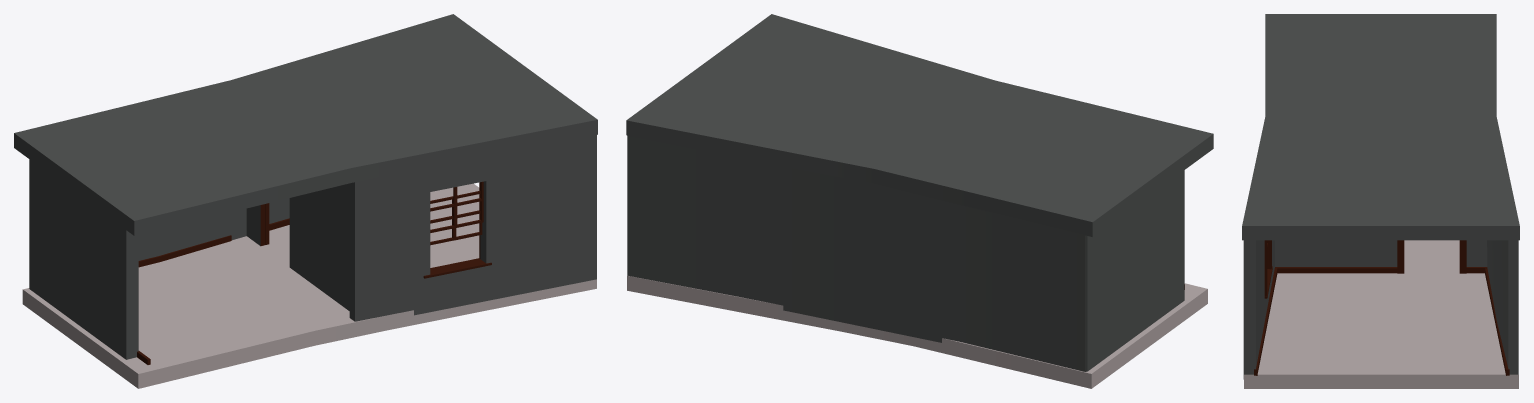
File: NanasHouse 1.1.fbx
3 renders of one model, left to right at view 1: azimuth 30°, elevation 25°; view 2: azimuth 150°, elevation 25°; view 3: azimuth 270°, elevation 25°, orthographic. The views are drawn at different scales.
Parts seen in each view (by area): view 1: Ceiling, Window_Wall, Floor, Kitchen_Wall, Threshold_Wall, Long_Wall, Mullions2, Mullions1, Kitchen_Baseboard1, Window_Sill; view 2: Ceiling, Long_Wall, Kitchen_Wall, Floor; view 3: Ceiling, Floor, Threshold_Wall, Long_Wall, Window_Wall, Baseboard3, Threshold_Casing, Baseboard2, Baseboard1, Window_Casing.
Boxes of the visible parts, left/top/right/bottom form: Ceiling: left=14, top=14, right=597, bottom=235; Window_Wall: left=349, top=135, right=596, bottom=321; Floor: left=22, top=183, right=596, bottom=388; Kitchen_Wall: left=29, top=159, right=138, bottom=359; Threshold_Wall: left=246, top=183, right=349, bottom=310; Long_Wall: left=138, top=198, right=289, bottom=260; Mullions2: left=430, top=191, right=482, bottom=245; Mullions1: left=430, top=181, right=483, bottom=232; Kitchen_Baseboard1: left=138, top=235, right=231, bottom=267; Window_Sill: left=423, top=258, right=491, bottom=278; Ceiling: left=626, top=14, right=1213, bottom=237; Long_Wall: left=627, top=135, right=1086, bottom=371; Kitchen_Wall: left=1086, top=170, right=1184, bottom=371; Floor: left=627, top=275, right=1207, bottom=388; Ceiling: left=1242, top=14, right=1519, bottom=240; Floor: left=1244, top=240, right=1518, bottom=388; Threshold_Wall: left=1275, top=240, right=1487, bottom=266; Long_Wall: left=1487, top=240, right=1518, bottom=374; Window_Wall: left=1243, top=240, right=1274, bottom=379; Baseboard3: left=1275, top=267, right=1397, bottom=273; Threshold_Casing: left=1397, top=240, right=1466, bottom=273; Baseboard2: left=1254, top=268, right=1277, bottom=375; Baseboard1: left=1485, top=268, right=1509, bottom=375; Window_Casing: left=1264, top=240, right=1271, bottom=296.
Size of the model in its own units: 178 by 64.02 by 98.78.
